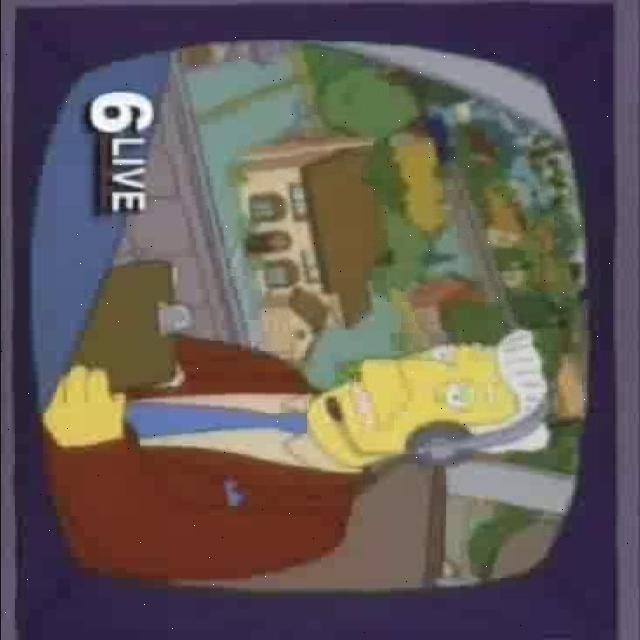Kent Brockman: (304, 328, 552, 469)
